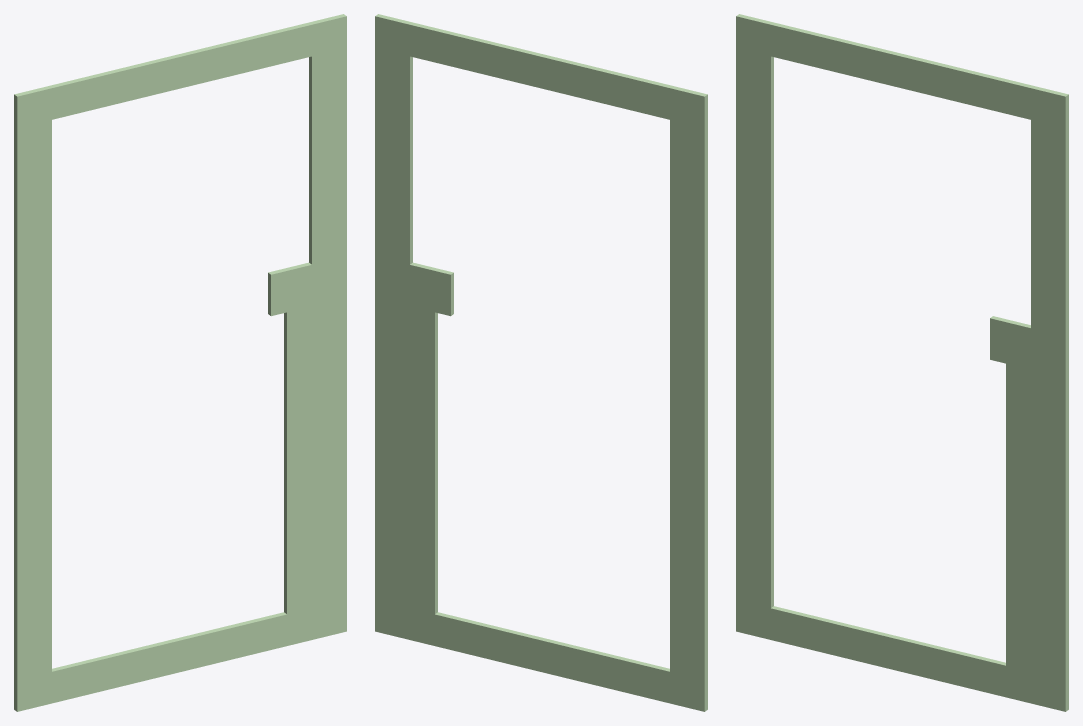
File: Cirtesu - Suelo exterior.obj
3 renders of one model, left to right at view 1: azimuth 30°, elevation 25°; view 2: azimuth 150°, elevation 25°; view 3: azimuth 330°, elevation 25°, orthographic.
Visible parts, largest first — view 1: mesh4, mesh1, mesh0, mesh10, mesh9, mesh6; view 2: mesh5, mesh1, mesh0, mesh10, mesh9, mesh6; view 3: mesh4, mesh3, mesh8, mesh0, mesh9.
Part boxes in pixels (bbox=[...]): mesh4: bbox=[17, 16, 346, 711]; mesh1: bbox=[14, 94, 17, 711]; mesh0: bbox=[14, 14, 346, 96]; mesh10: bbox=[284, 312, 286, 613]; mesh9: bbox=[52, 612, 286, 671]; mesh6: bbox=[309, 56, 311, 264]; mesh5: bbox=[375, 16, 704, 711]; mesh1: bbox=[704, 94, 707, 711]; mesh0: bbox=[375, 14, 707, 96]; mesh10: bbox=[435, 312, 437, 613]; mesh9: bbox=[435, 612, 669, 671]; mesh6: bbox=[410, 56, 412, 264]; mesh4: bbox=[736, 16, 1065, 711]; mesh3: bbox=[1065, 94, 1068, 711]; mesh8: bbox=[771, 56, 773, 607]; mesh0: bbox=[736, 14, 1068, 96]; mesh9: bbox=[771, 606, 1005, 665].
Size of the model in its own units: 18.5 by 33 by 0.3.
